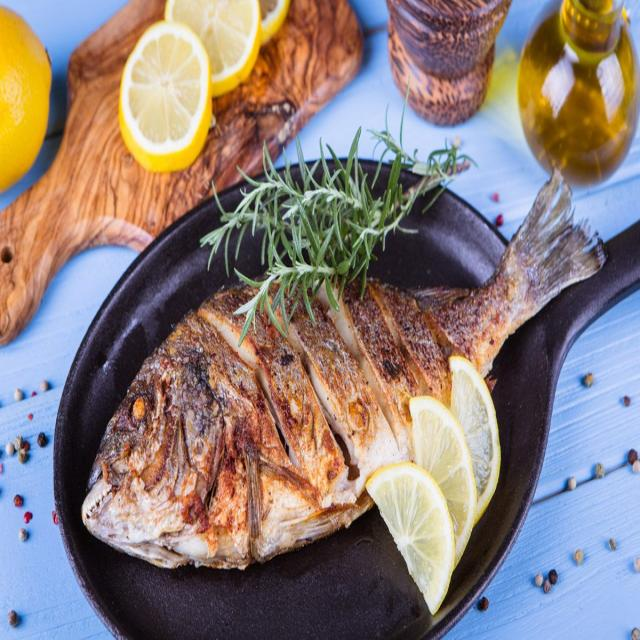pescado: (78, 254, 537, 575)
